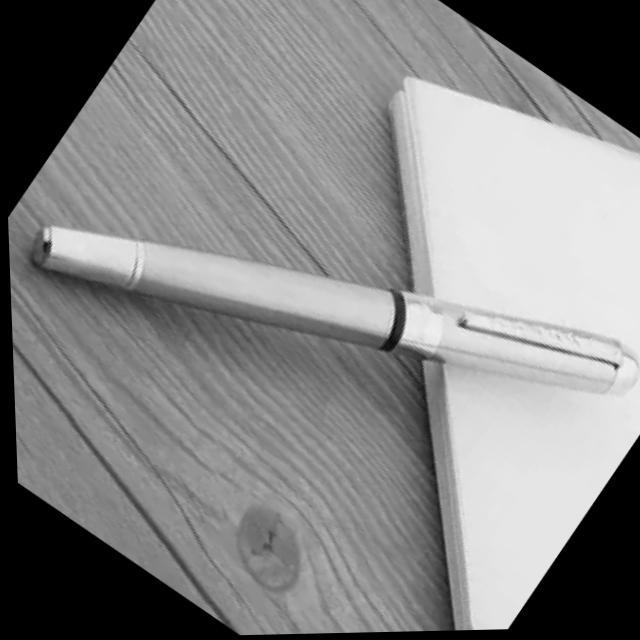pencil: (18, 205, 640, 427)
